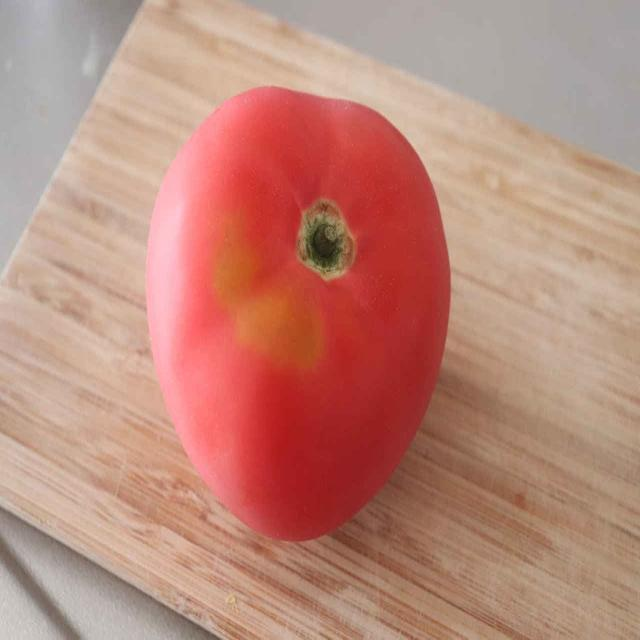kirmizi: (182, 78, 452, 558)
